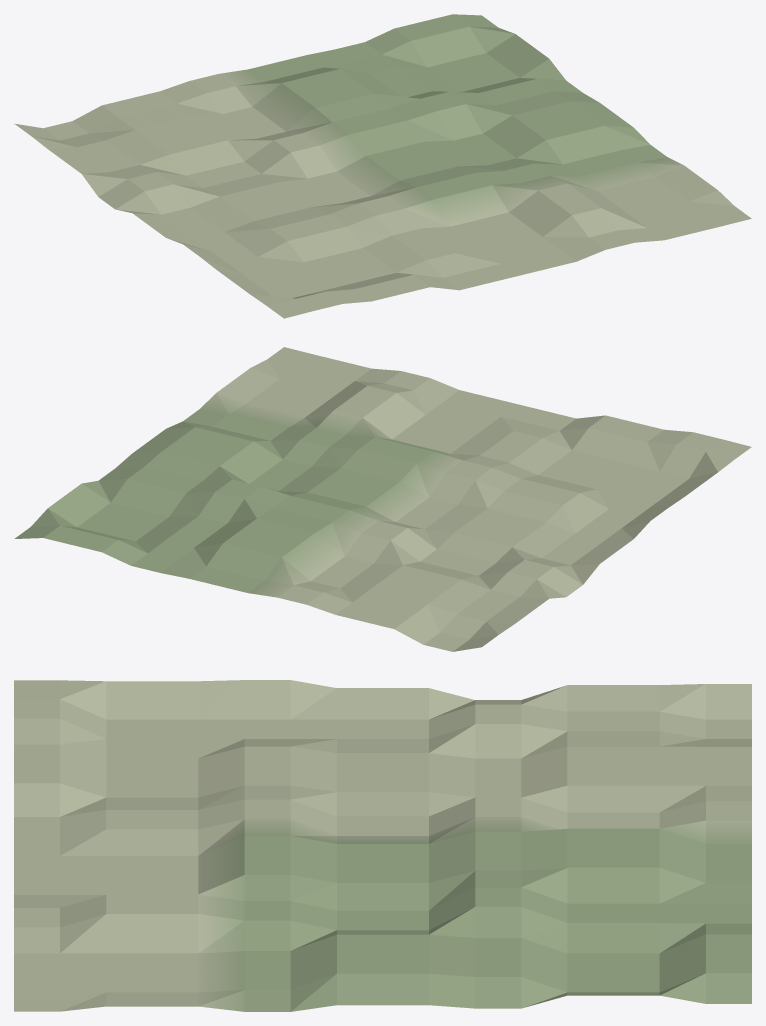
3 renders of one model, top to bottom at view 1: azimuth 30°, elevation 25°; view 2: azimuth 150°, elevation 25°; view 3: azimuth 270°, elevation 25°, orthographic. The views are drawn at different scales.
Size of the model in its own units: 32 by 1.3 by 32.
